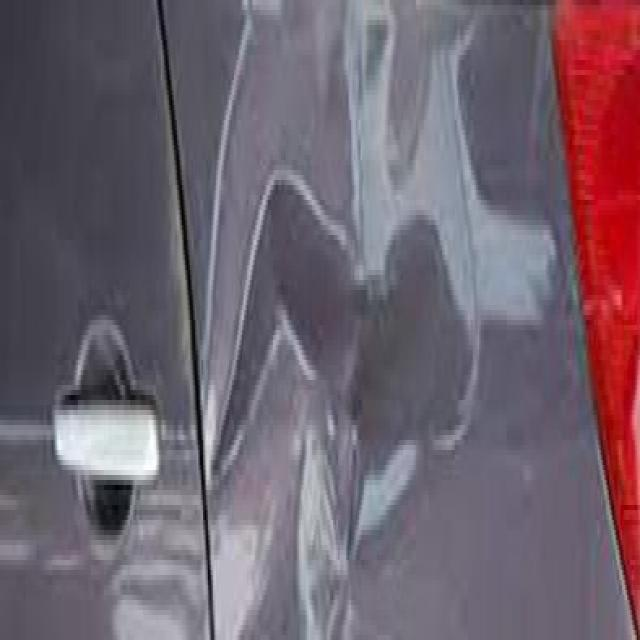dent: (184, 25, 568, 640)
